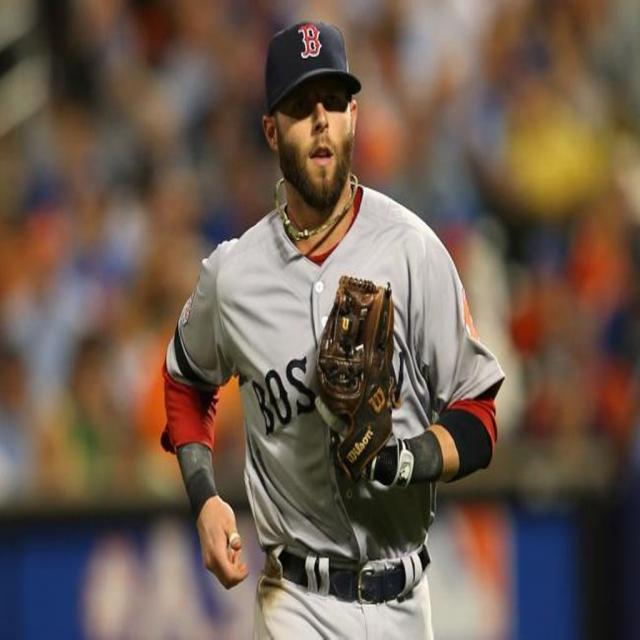nomask: (278, 79, 350, 205)
